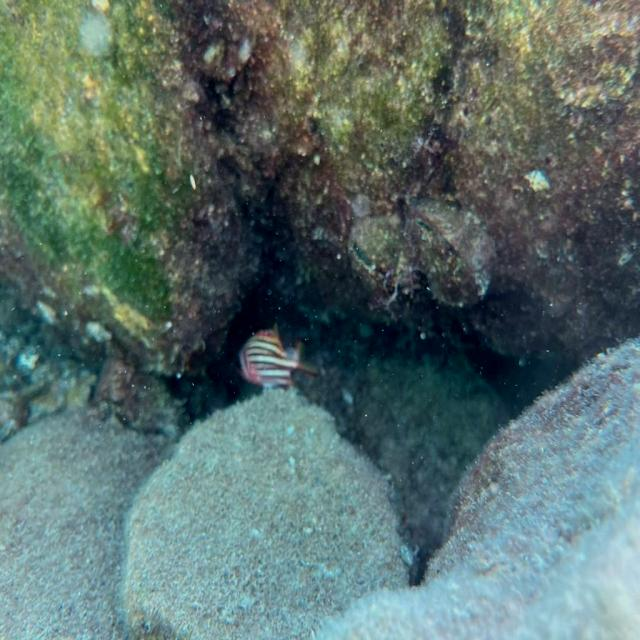Asker Baligi: (229, 312, 323, 406)
